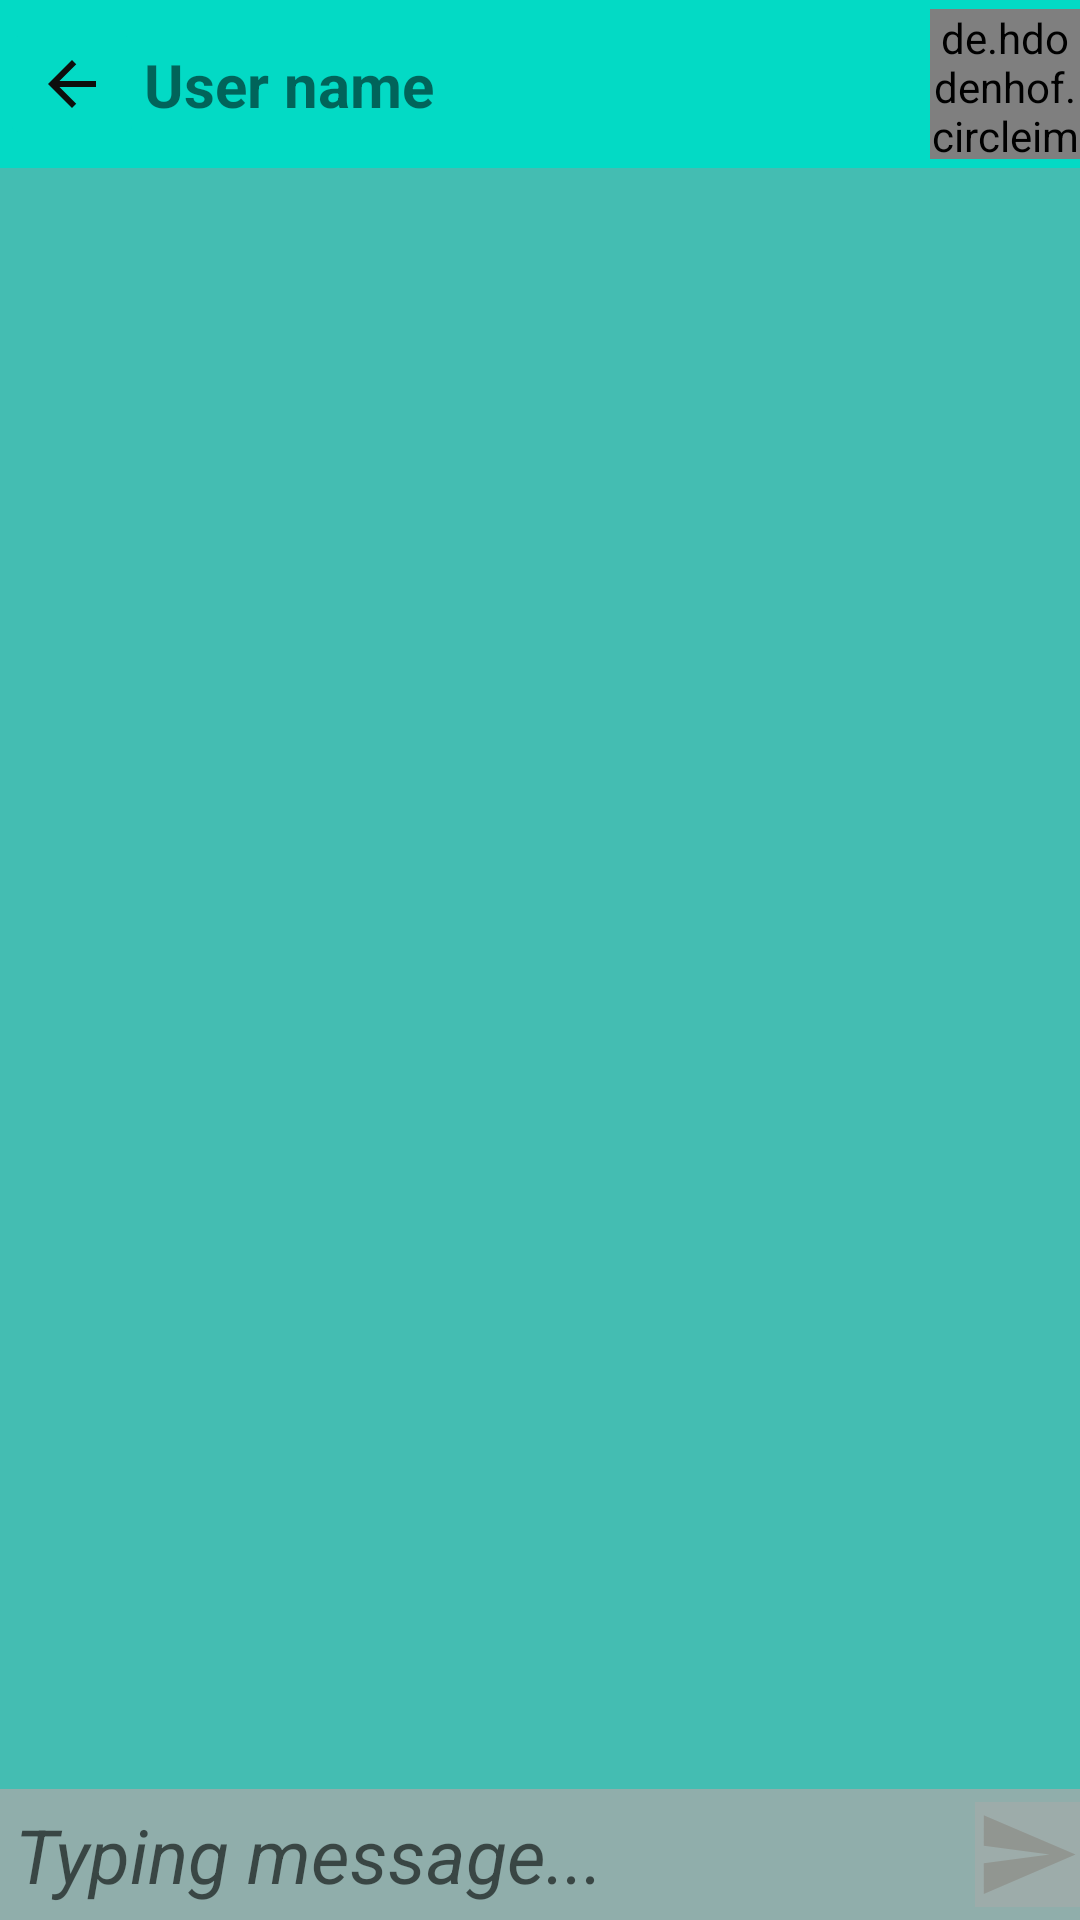

Screen size 1080x1920. Icon name, then its center in pixels as [x,y]:
arrow back: [72,84]
